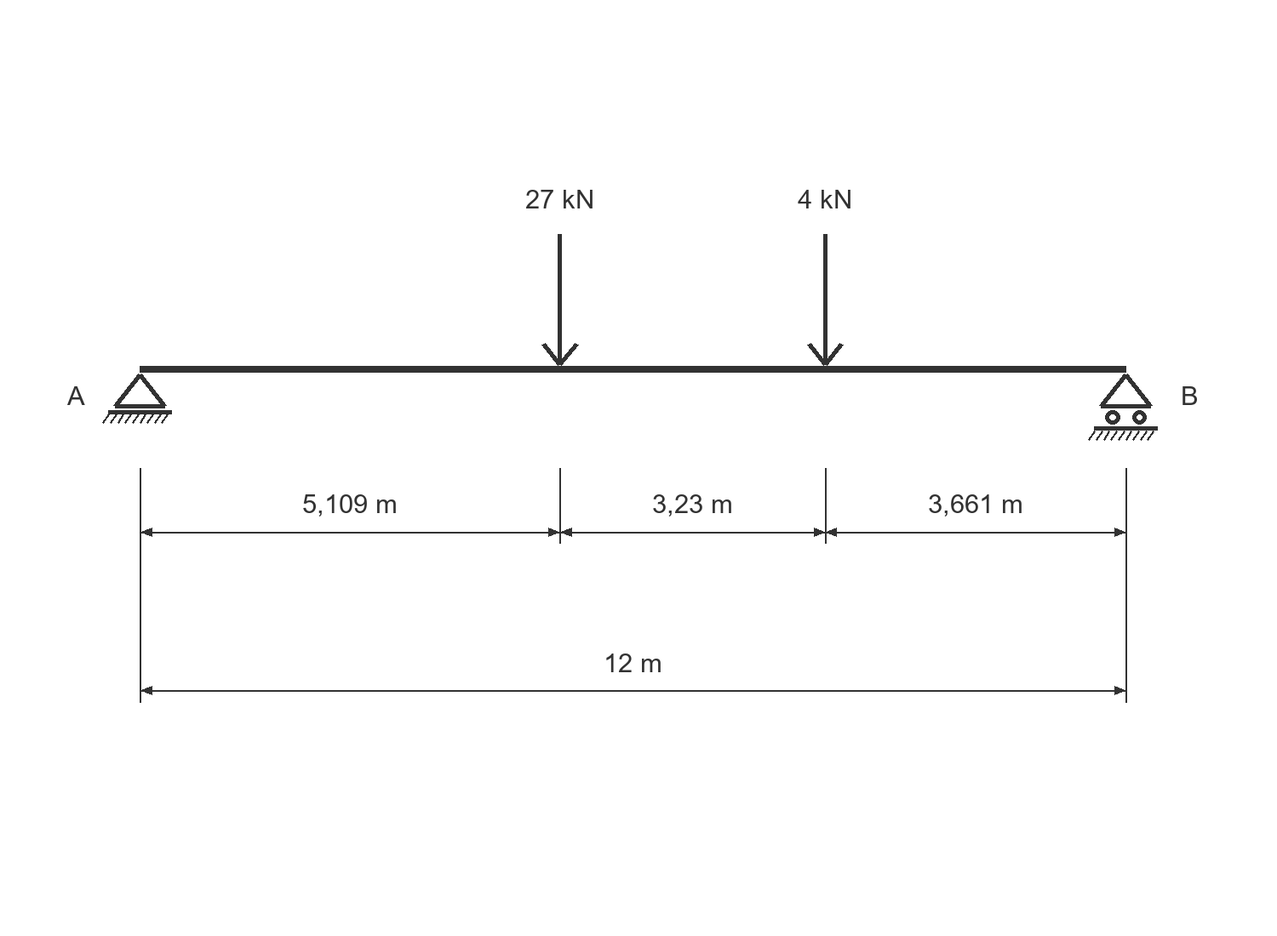pin_support: (102, 374, 172, 424)
point_load: (541, 234, 579, 366), (807, 234, 844, 366)
roller_support: (1088, 374, 1158, 441)
